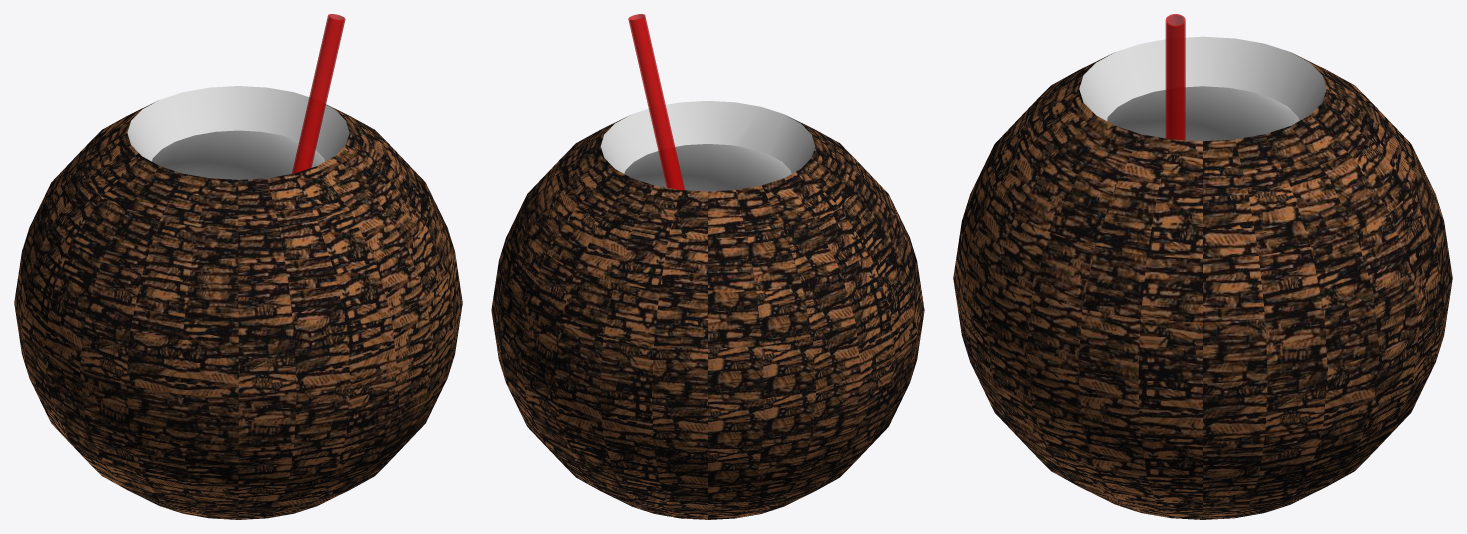
File: coconut_drink.fbx
The picture shows the model from 3 angles, left to right: view 1: azimuth 30°, elevation 25°; view 2: azimuth 150°, elevation 25°; view 3: azimuth 270°, elevation 25°; orthographic projection. The views are drawn at different scales.
Parts seen in each view (by area): view 1: coconut, coconut_interior, coconut_straw; view 2: coconut, coconut_interior, coconut_straw; view 3: coconut, coconut_interior, coconut_straw.
Boxes of the visible parts, box(x1,y1,x2,y2) form: coconut: box(14, 86, 462, 519); coconut_interior: box(152, 130, 324, 179); coconut_straw: box(292, 14, 345, 173); coconut: box(491, 101, 924, 519); coconut_interior: box(624, 144, 791, 191); coconut_straw: box(628, 14, 684, 190); coconut: box(953, 36, 1452, 519); coconut_interior: box(1107, 86, 1299, 141); coconut_straw: box(1165, 14, 1185, 140).
Size of the model in its own units: 0.5953 by 0.6847 by 0.5953.
